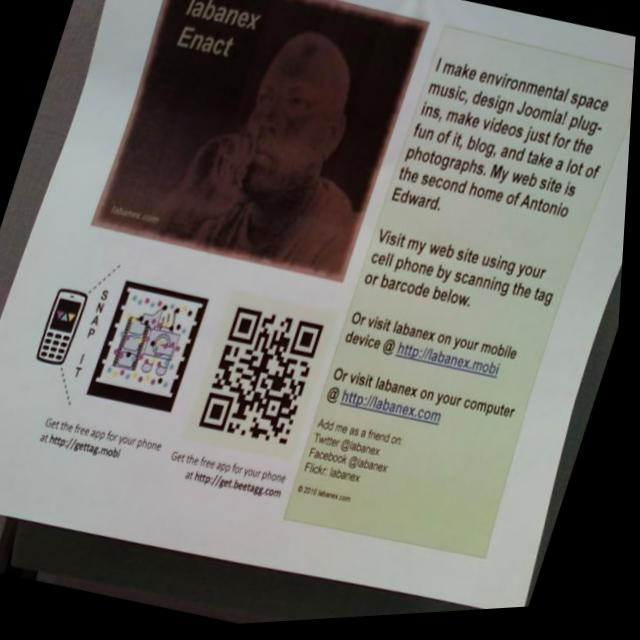qrcode: (204, 307, 330, 454)
